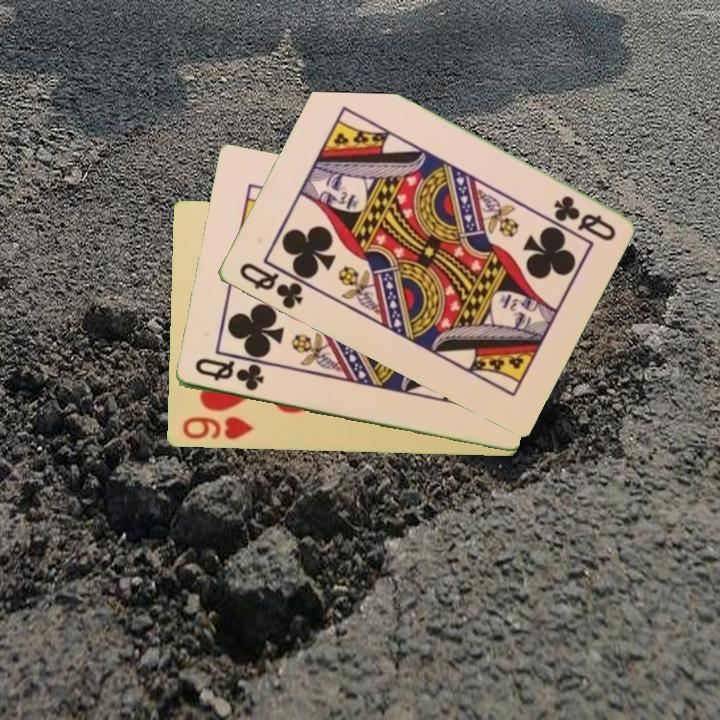9h: (179, 414, 257, 443)
Qc: (235, 259, 314, 312), (549, 192, 619, 244), (190, 354, 267, 394)
